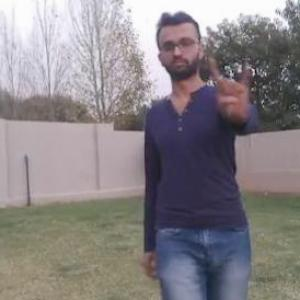takeoff-hand: (205, 49, 259, 127)
